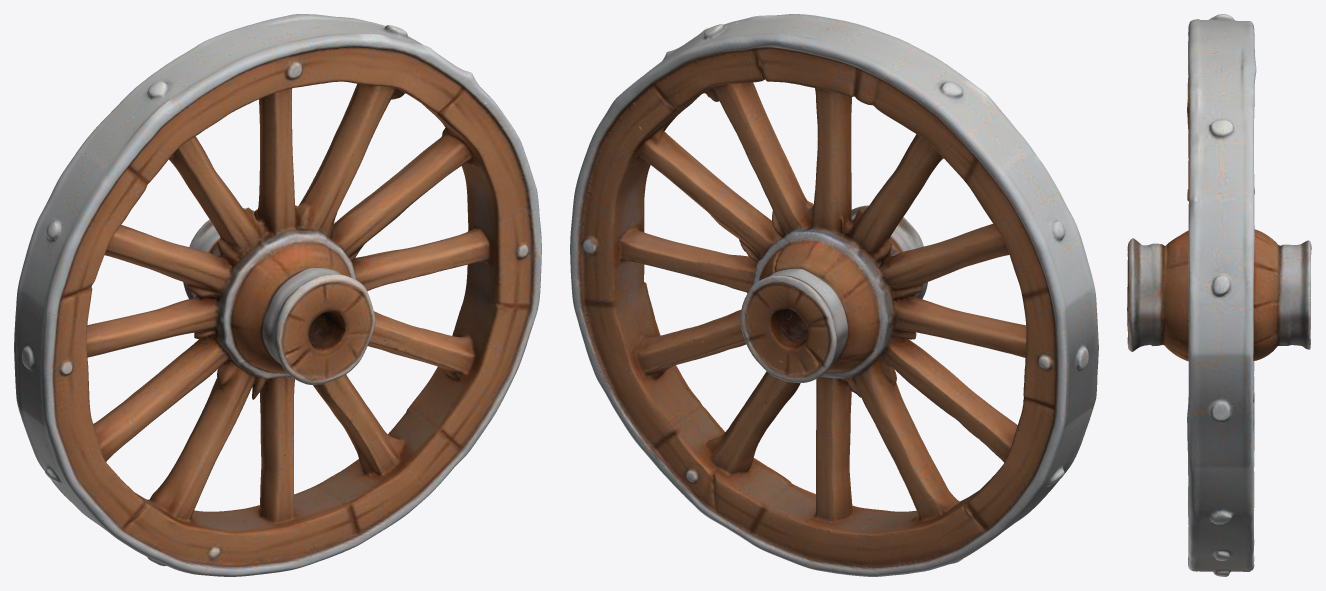
File: wagon-wheel.glb
3 renders of one model, left to right at view 1: azimuth 30°, elevation 25°; view 2: azimuth 150°, elevation 25°; view 3: azimuth 270°, elevation 25°, orthographic. The views are drawn at different scales.
Bounding box in the file's own units: 2 × 2 × 0.6718.
Materials: 1 (1 with a texture image).
